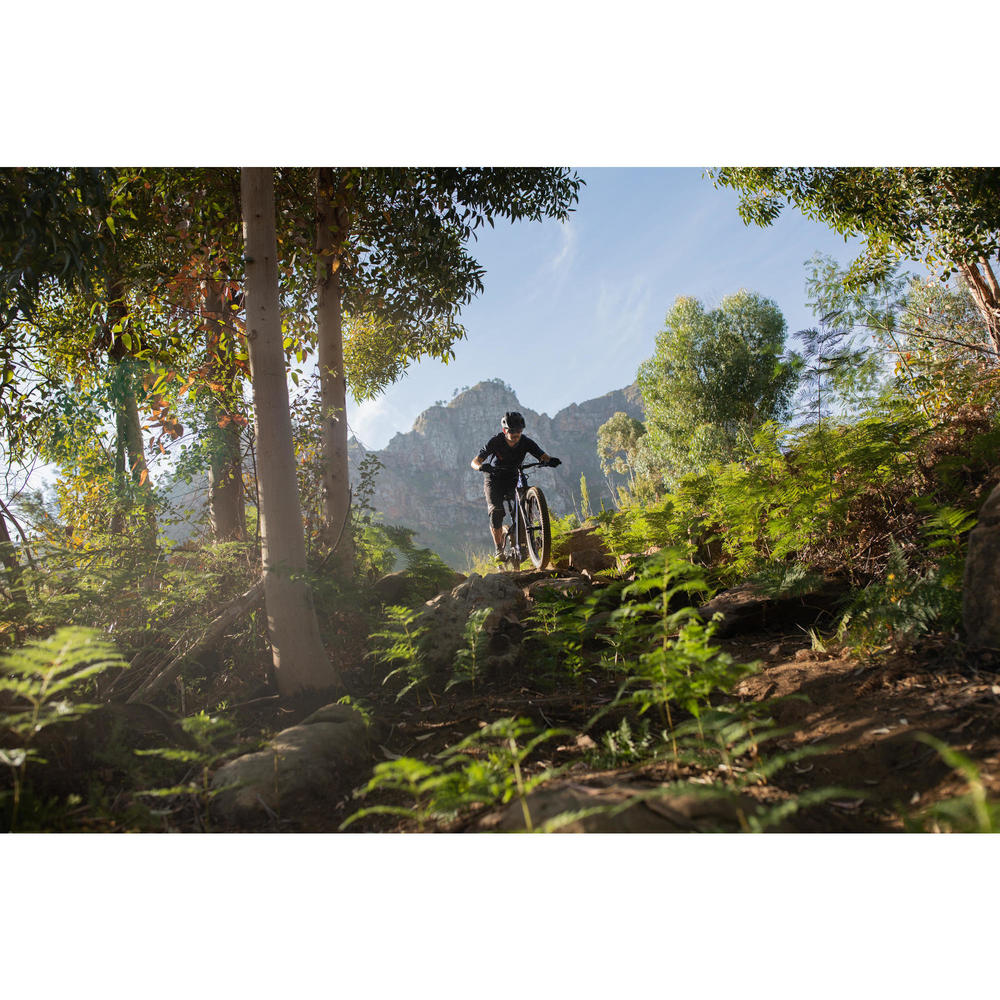MountainBike: (461, 452, 562, 583)
